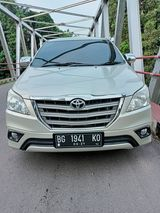plate: (52, 132, 105, 146)
